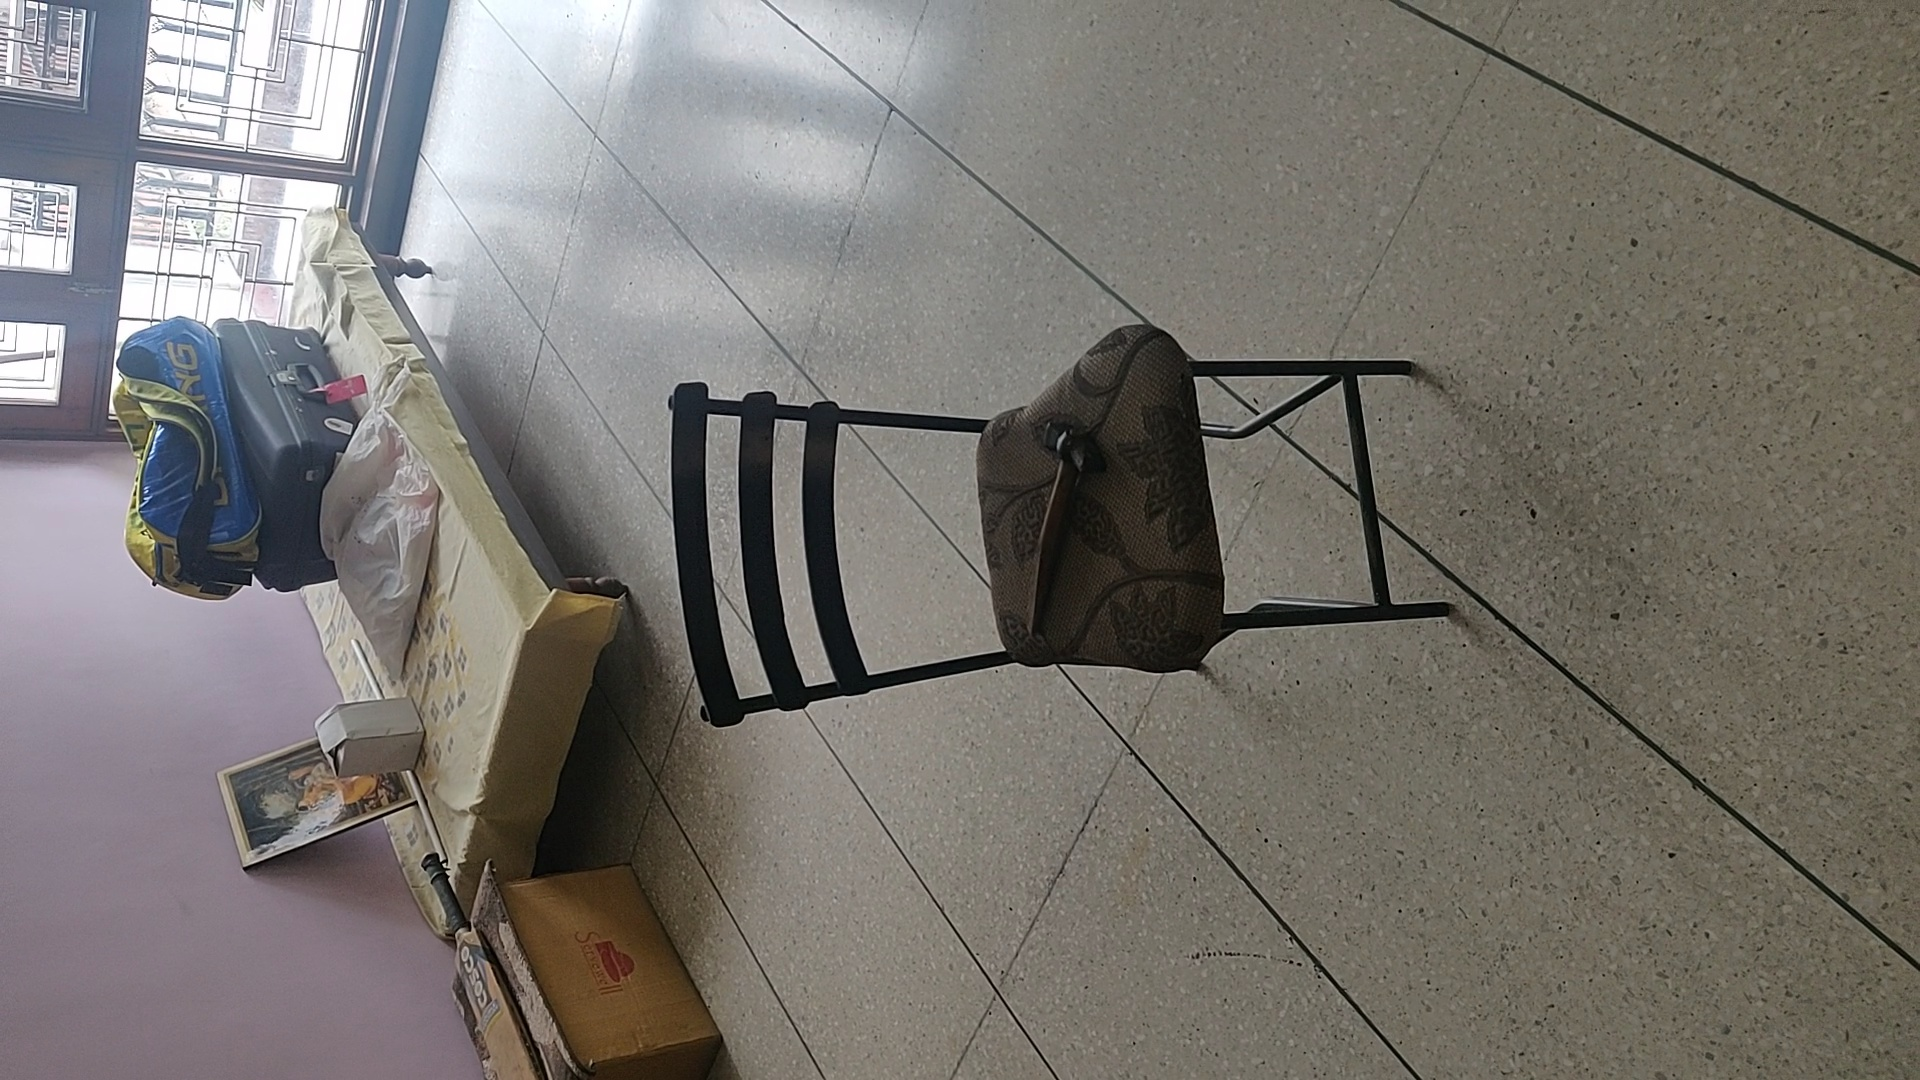hammer: (1029, 418, 1106, 634)
